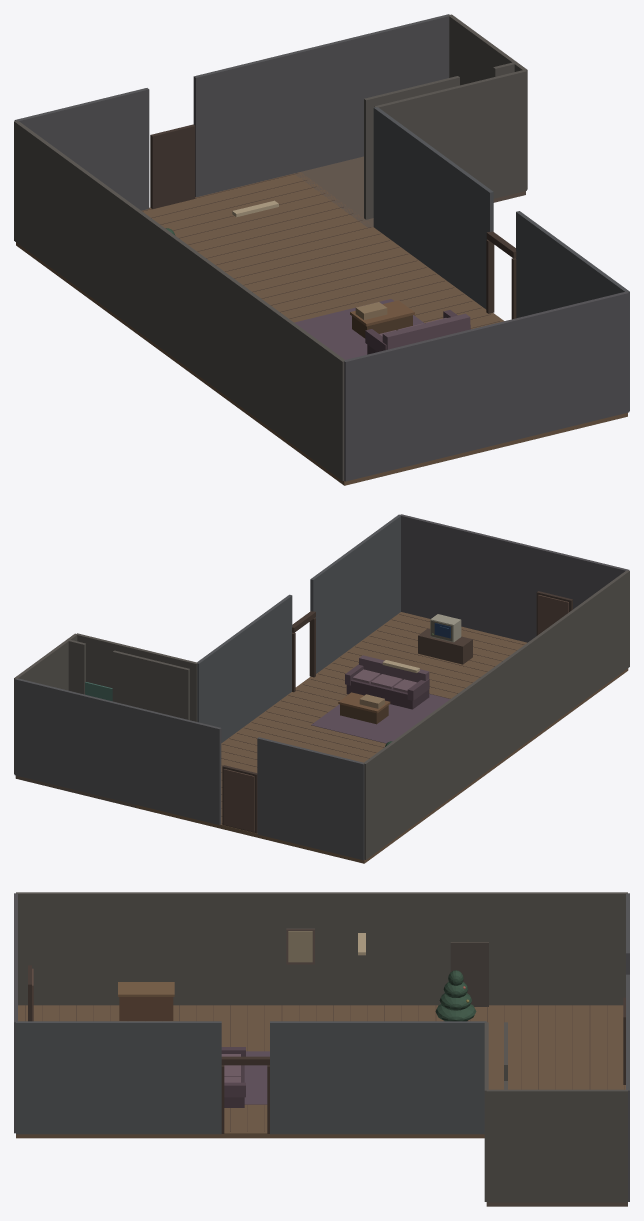
Rendered from salaC3.obj.
3 renders of one model, top to bottom at view 1: azimuth 30°, elevation 25°; view 2: azimuth 150°, elevation 25°; view 3: azimuth 270°, elevation 25°, orthographic. The views are drawn at different scales.
Visible parts, largest first — view 1: Pared_oeste, Pared_norte, Piso_de_la_sala, Fondo_este, Pared_junto_a_la_cocina, Decoración_original, Muro_del_nicho, Fondo_oeste, Pared_junto_a_la_entrada, Retorno_del_baño, Vestíbulo_del_baño, Muro_del_baño_oeste (+1 smaller); view 2: Pared_oeste, Fondo_este, Pared_norte, Piso_de_la_sala, Decoración_original, Fondo_oeste, Pared_junto_a_la_cocina, Pared_junto_a_la_entrada, Muro_del_baño_oeste, Muro_del_nicho, Retorno_del_baño, Consola_del_televisor (+3 smaller); view 3: Pared_oeste, Pared_junto_a_la_cocina, Pared_junto_a_la_entrada, Piso_de_la_sala, Retorno_del_baño, Decoración_original, Puerta_DOCUMENTOS, Mueble_junto_a_la_entrada, Pared_norte, Vestíbulo_del_baño, Fondo_este, Muro_del_nicho.
Boxes of the visible parts, x1,y1,x2,y2 form: Pared_oeste: [14, 120, 344, 481]; Pared_norte: [344, 291, 629, 481]; Piso_de_la_sala: [16, 172, 627, 485]; Fondo_este: [193, 14, 449, 197]; Pared_junto_a_la_cocina: [373, 107, 493, 309]; Decoración_original: [139, 124, 516, 359]; Muro_del_nicho: [374, 70, 526, 198]; Fondo_oeste: [14, 88, 149, 210]; Pared_junto_a_la_entrada: [516, 211, 629, 411]; Retorno_del_baño: [448, 14, 527, 189]; Vestíbulo_del_baño: [294, 156, 525, 228]; Muro_del_baño_oeste: [364, 76, 459, 219]; Pared_oeste: [363, 570, 629, 859]; Fondo_este: [14, 678, 221, 825]; Pared_norte: [400, 514, 629, 642]; Piso_de_la_sala: [136, 612, 628, 863]; Decoración_original: [15, 591, 572, 859]; Fondo_oeste: [257, 737, 364, 860]; Pared_junto_a_la_cocina: [197, 594, 292, 742]; Pared_junto_a_la_entrada: [310, 514, 401, 673]; Muro_del_baño_oeste: [112, 650, 189, 720]; Muro_del_nicho: [76, 633, 197, 721]; Retorno_del_baño: [14, 633, 77, 774]; Consola_del_televisor: [418, 628, 472, 664]; Pared_oeste: [16, 892, 627, 1005]; Pared_junto_a_la_cocina: [270, 1021, 486, 1134]; Pared_junto_a_la_entrada: [16, 1021, 221, 1134]; Piso_de_la_sala: [16, 1005, 625, 1138]; Retorno_del_baño: [486, 1089, 627, 1202]; Decoración_original: [25, 928, 629, 1201]; Puerta_DOCUMENTOS: [450, 942, 488, 1006]; Mueble_junto_a_la_entrada: [119, 997, 173, 1020]; Pared_norte: [14, 893, 17, 1133]; Vestíbulo_del_baño: [486, 1202, 627, 1206]; Fondo_este: [626, 974, 629, 1201]; Muro_del_nicho: [484, 1022, 488, 1201].
Bounding box in the file's own units: 25.32 × 6.88 × 33.12.
